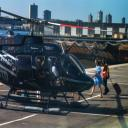helicopter: (2, 14, 97, 119)
